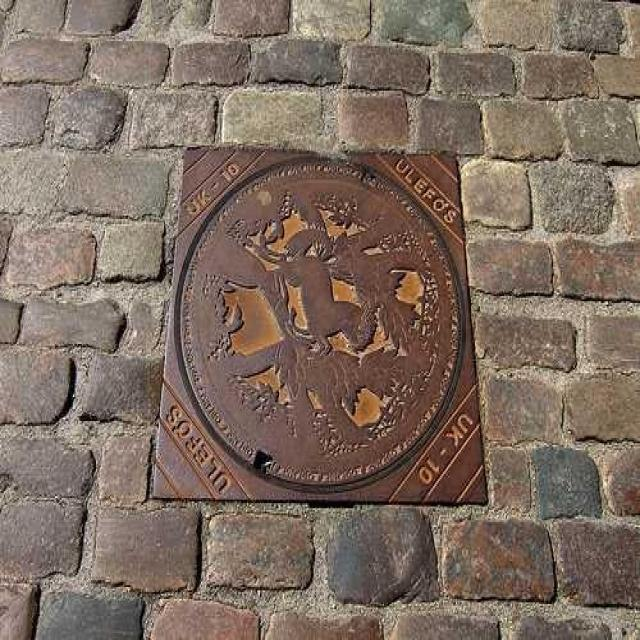manhole: (156, 147, 486, 504)
